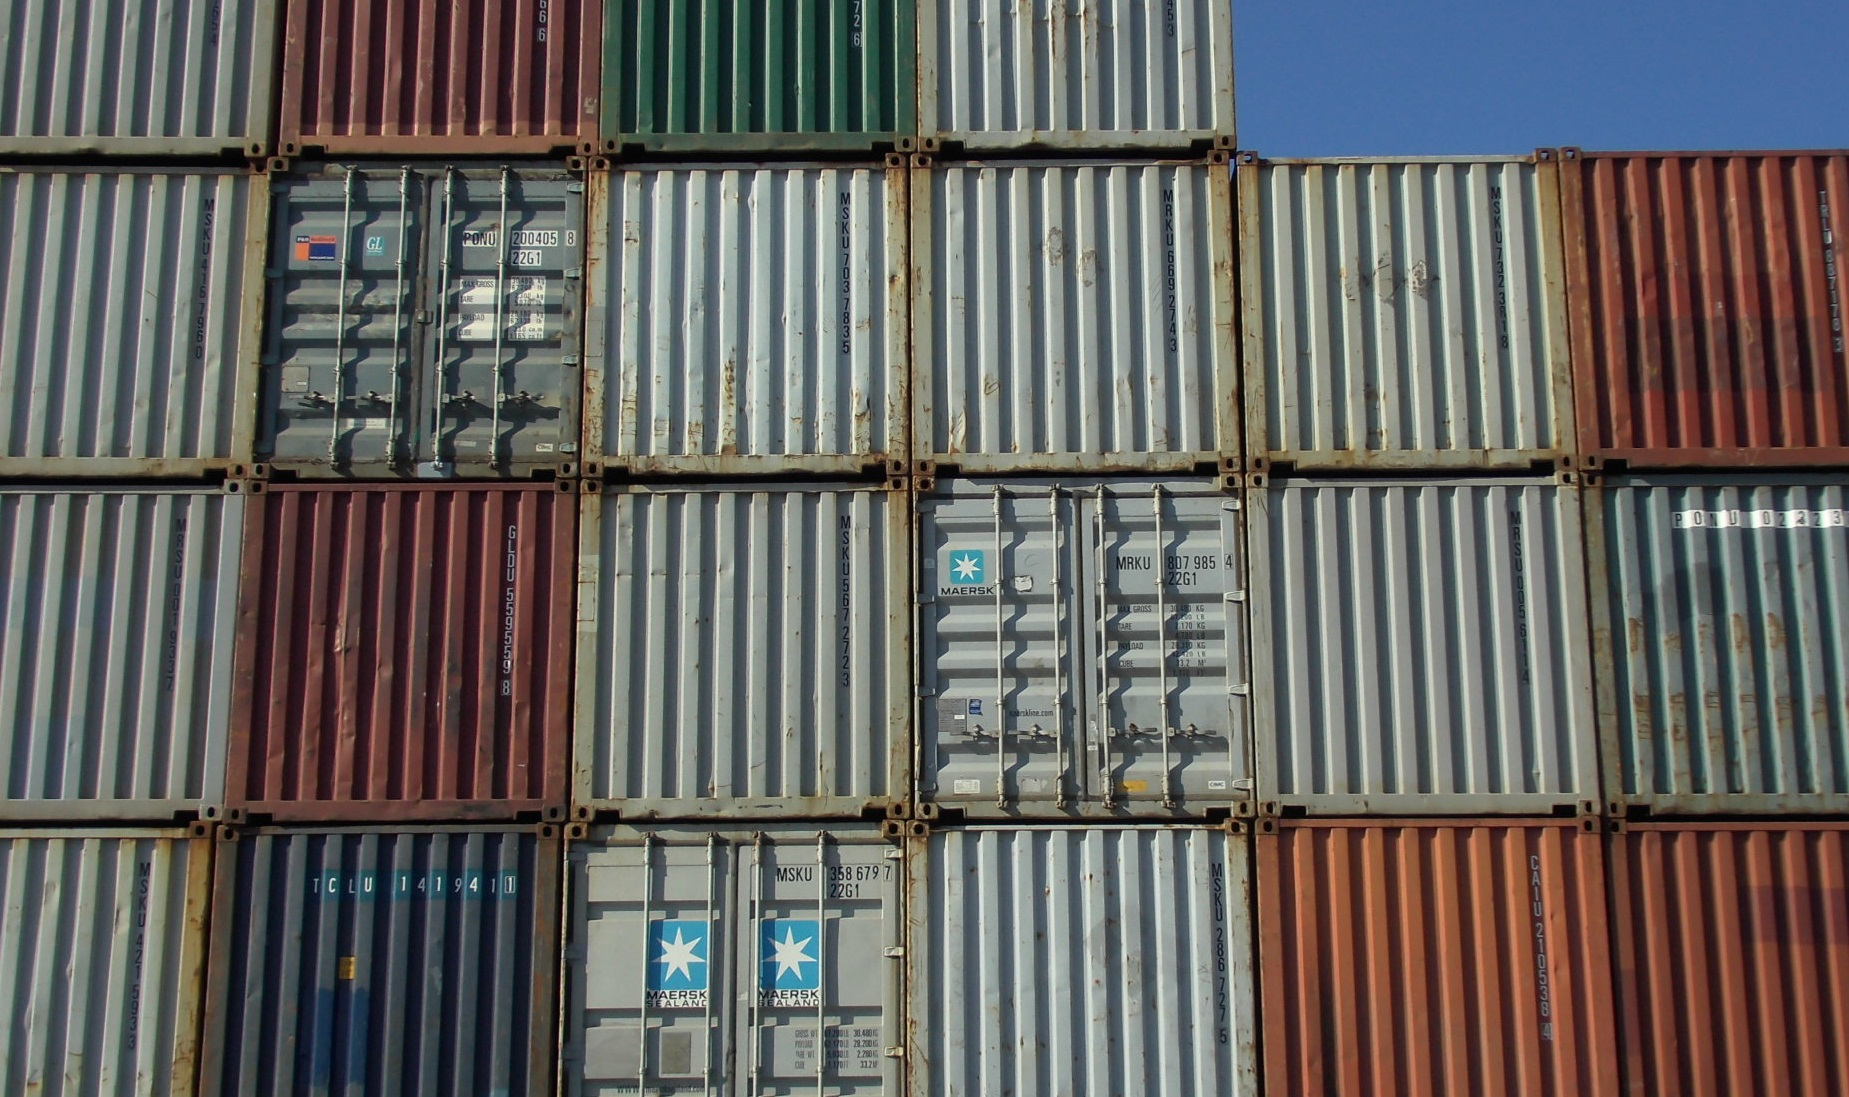container_door: (911, 481, 1261, 824), (270, 159, 573, 481), (565, 825, 919, 1097)
container_no_door: (1261, 471, 1601, 816), (239, 477, 578, 821), (571, 474, 909, 819), (898, 154, 1238, 475), (577, 154, 915, 475), (1241, 150, 1579, 471), (1263, 825, 1617, 1097), (218, 821, 561, 1096), (919, 825, 1251, 1097), (1602, 464, 1849, 816), (1581, 148, 1849, 470), (1, 478, 235, 818), (10, 167, 266, 470), (1613, 825, 1849, 1097), (1, 821, 213, 1097), (269, 1, 594, 153), (589, 1, 914, 153), (904, 1, 1227, 153), (1, 1, 270, 155)
